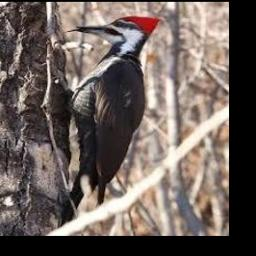Woodpecker: (64, 16, 160, 226)
